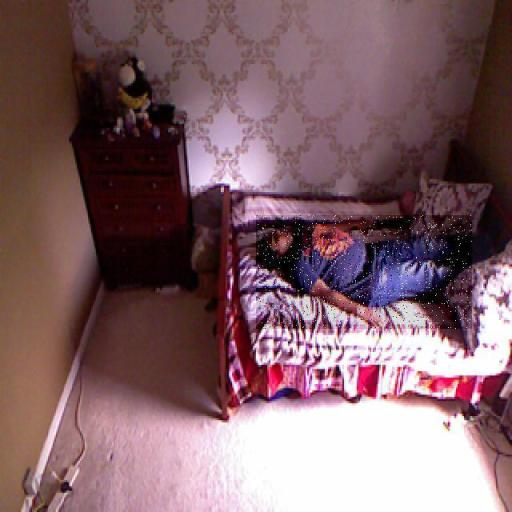Fall: (256, 215, 472, 329)
